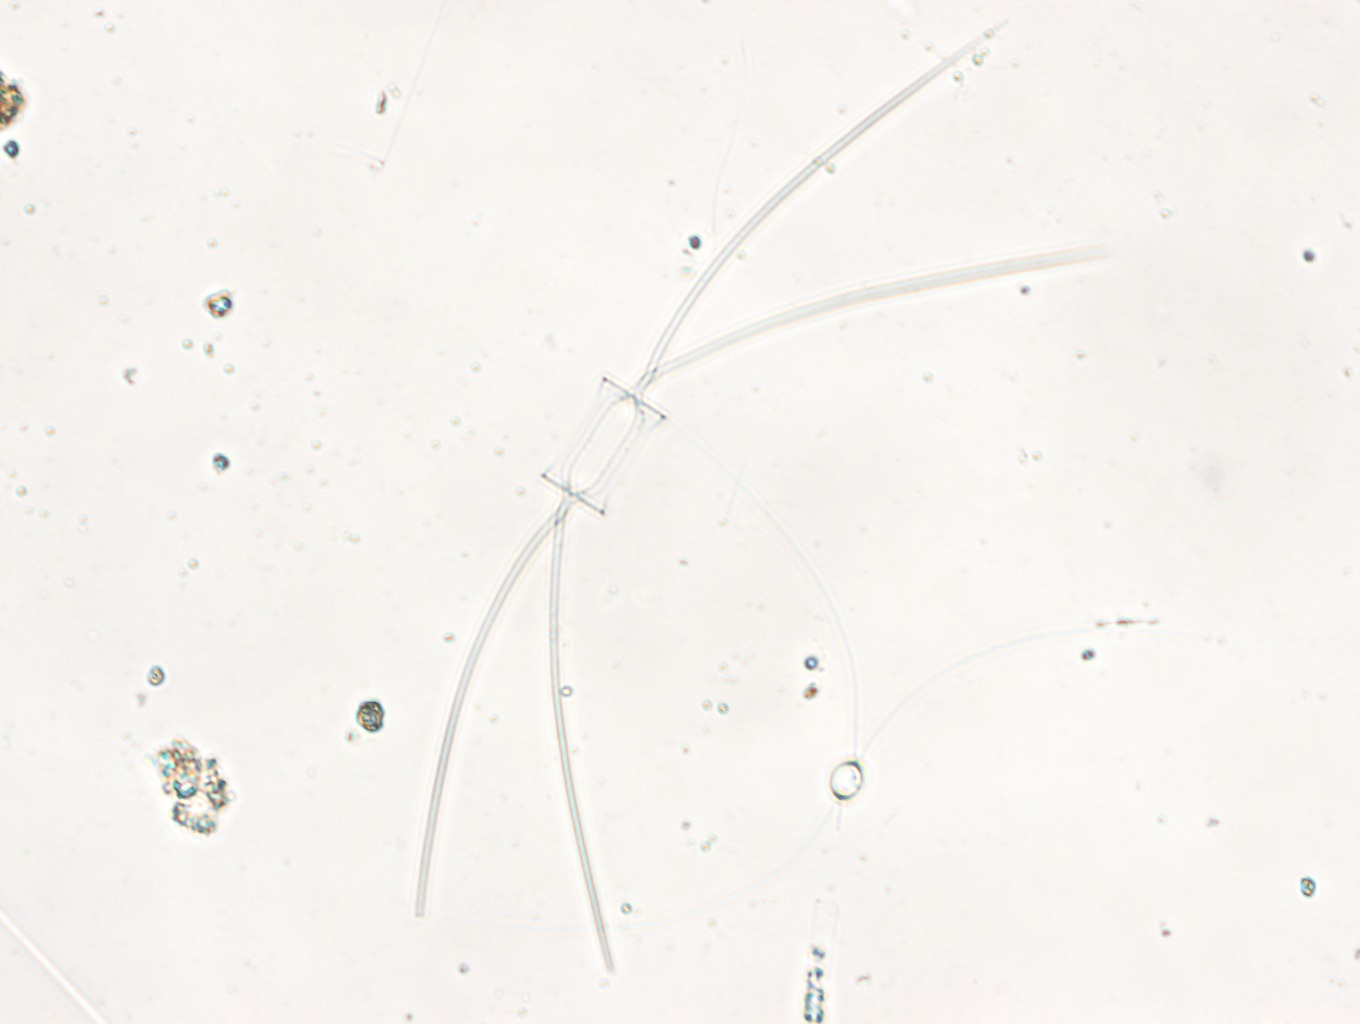chaetoceros: (393, 2, 1119, 978)
